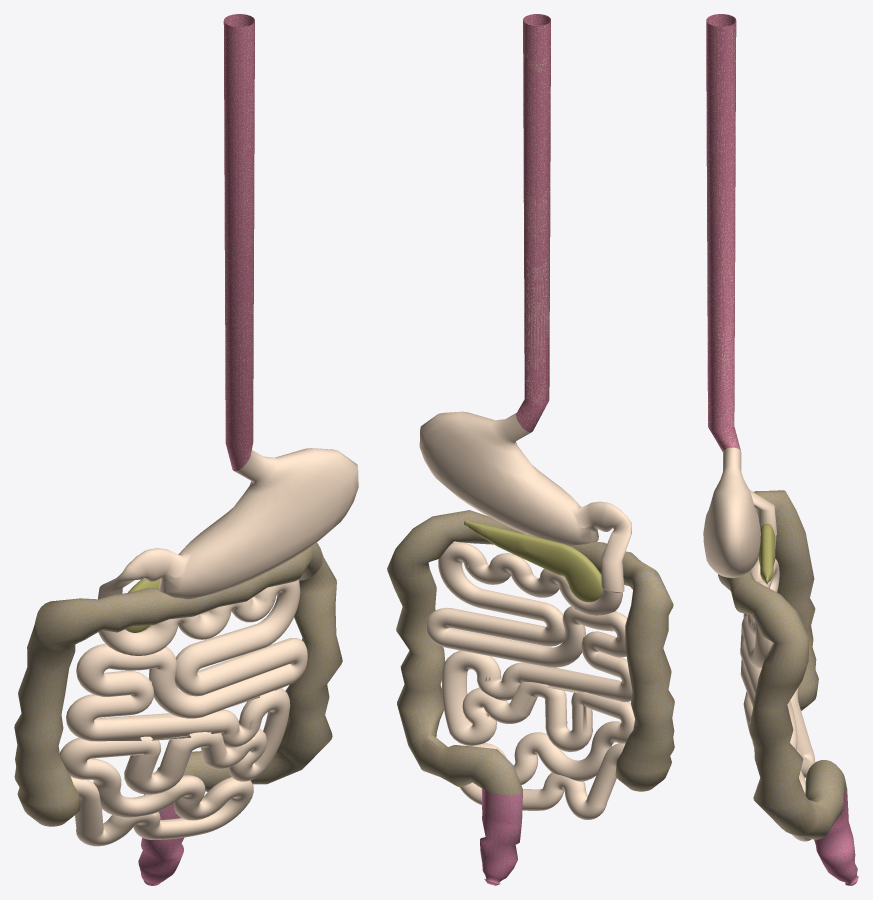
3 views of the same model, side by side, from view 1: azimuth 30°, elevation 25°; view 2: azimuth 150°, elevation 25°; view 3: azimuth 270°, elevation 25° (orthographic). The views are drawn at different scales.
Visible parts, largest first — view 1: group_0, group_3 (×2), group_2 (×2); view 2: group_0, group_2 (×2), group_3 (×2), group_1; view 3: group_2 (×2), group_3 (×2), group_0, group_1.
Part boxes in pixels (left/top/right/bottom): group_0: left=60, top=579, right=307, bottom=846; group_3 (×2): left=98, top=14, right=358, bottom=599; group_2 (×2): left=14, top=542, right=342, bottom=885; group_0: left=427, top=542, right=634, bottom=819; group_2 (×2): left=387, top=510, right=674, bottom=885; group_3 (×2): left=419, top=14, right=631, bottom=592; group_1: left=464, top=521, right=604, bottom=602; group_2 (×2): left=718, top=490, right=858, bottom=885; group_3 (×2): left=703, top=14, right=776, bottom=577; group_0: left=740, top=536, right=815, bottom=841; group_1: left=758, top=523, right=775, bottom=583.
Bounding box in the file's own units: 83.63 × 37.2 × 231.
